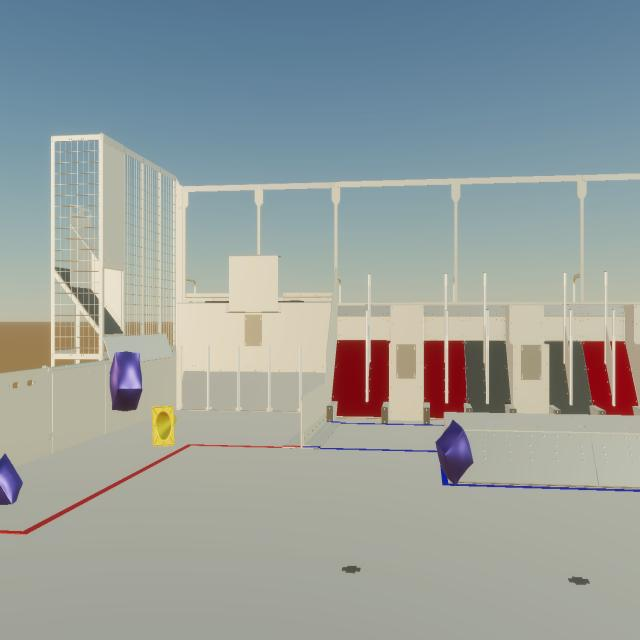frc_cone: (152, 406, 176, 446)
frc_cube: (435, 419, 474, 486), (110, 352, 142, 412), (0, 453, 23, 505)
